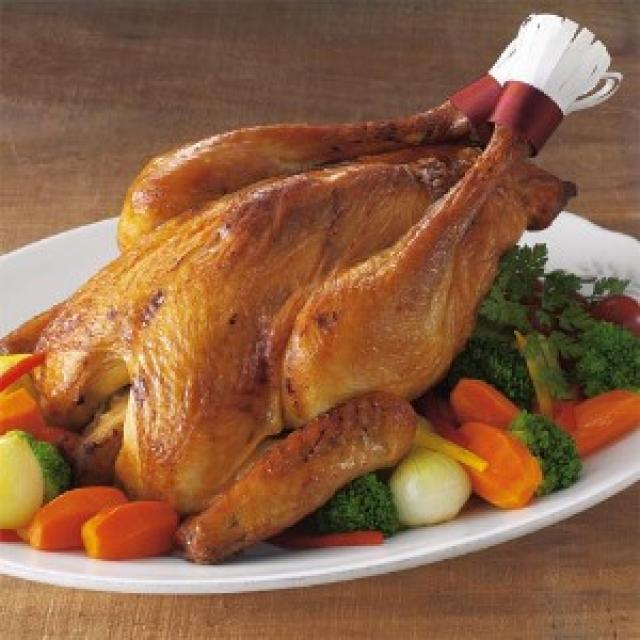Chicken: (34, 63, 552, 556)
